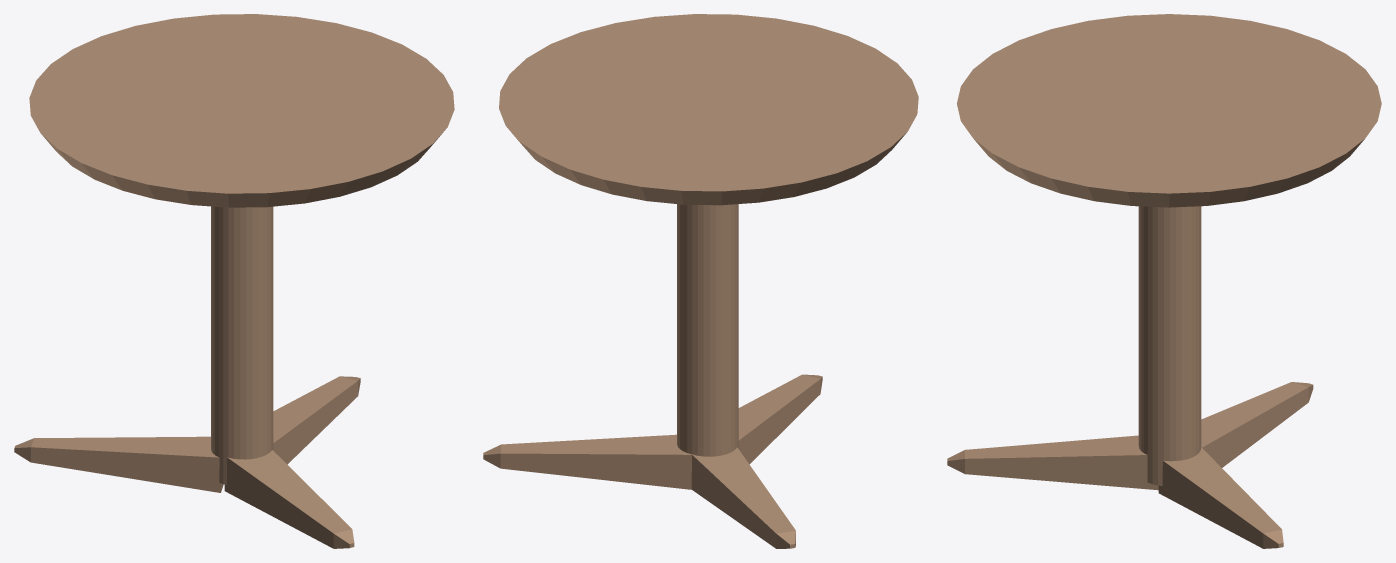
Rendered from terrastafel (1).fbx.
3 views of the same model, side by side, from view 1: azimuth 30°, elevation 25°; view 2: azimuth 150°, elevation 25°; view 3: azimuth 270°, elevation 25° (orthographic).
Parts seen in each view (by area): view 1: Circle, Cylinder, Cube.002, Cube, Cube.001; view 2: Circle, Cylinder, Cube.001, Cube.002, Cube; view 3: Circle, Cylinder, Cube, Cube.001, Cube.002.
Part boxes in pixels (left/top/right/bottom): Circle: left=29, top=14, right=454, bottom=207; Cylinder: left=211, top=206, right=273, bottom=484; Cube.002: left=14, top=436, right=223, bottom=492; Cube: left=224, top=450, right=354, bottom=548; Cube.001: left=273, top=376, right=360, bottom=464; Circle: left=499, top=14, right=918, bottom=205; Cylinder: left=677, top=204, right=738, bottom=456; Cube.001: left=483, top=434, right=692, bottom=489; Cube.002: left=691, top=447, right=795, bottom=548; Cube: left=738, top=374, right=822, bottom=464; Circle: left=957, top=14, right=1381, bottom=207; Cylinder: left=1138, top=206, right=1201, bottom=485; Cube: left=947, top=435, right=1158, bottom=490; Cube.001: left=1158, top=448, right=1283, bottom=548; Cube.002: left=1201, top=382, right=1313, bottom=467.
Size of the model in its own units: 245 by 241 by 250.
